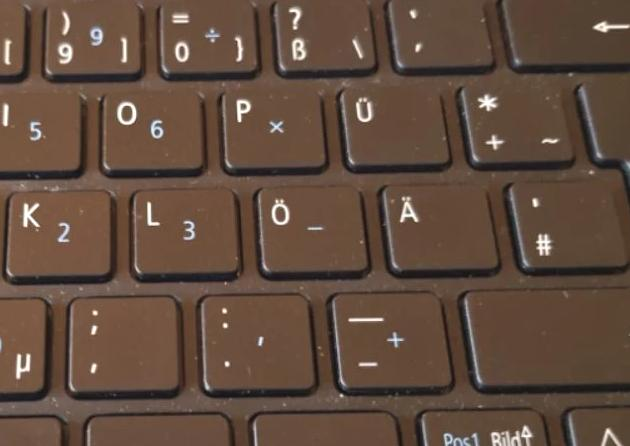0: (155, 1, 264, 82)
9: (42, 1, 147, 83)
accent: (385, 1, 499, 74)
ae: (377, 179, 505, 280)
comma: (63, 294, 185, 395)
del: (499, 1, 630, 70)
enter: (577, 77, 630, 272)
hash: (505, 178, 630, 277)
i: (1, 90, 86, 177)
k: (2, 185, 118, 286)
l: (125, 185, 246, 285)
minus: (325, 290, 460, 394)
o: (96, 88, 210, 180)
oe: (250, 185, 377, 281)
p: (215, 85, 333, 175)
plus: (457, 79, 579, 170)
point: (194, 292, 322, 394)
shift-right: (458, 286, 630, 392)
ss: (270, 1, 381, 79)
ue: (334, 81, 457, 174)
